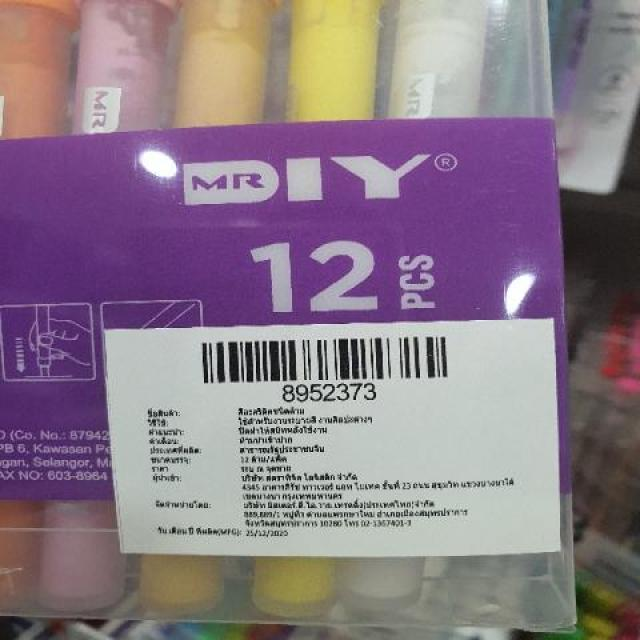Barcode: (178, 331, 470, 404)
